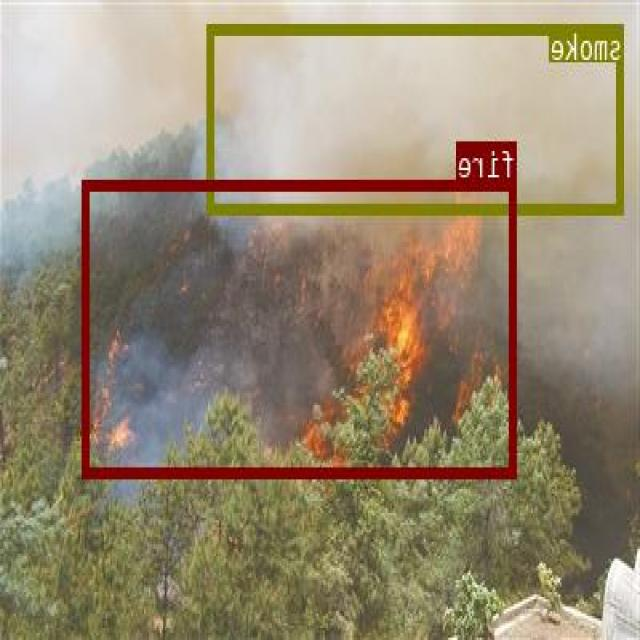fire: (83, 178, 518, 477)
smoke: (208, 23, 626, 213)
